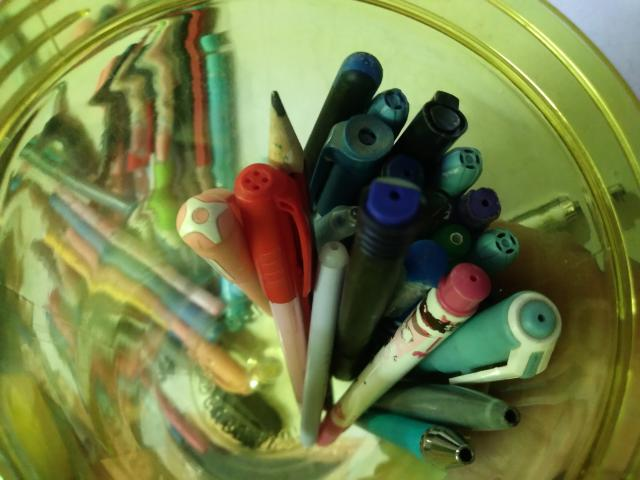PEN: (33, 309, 241, 480), (166, 185, 335, 339)
